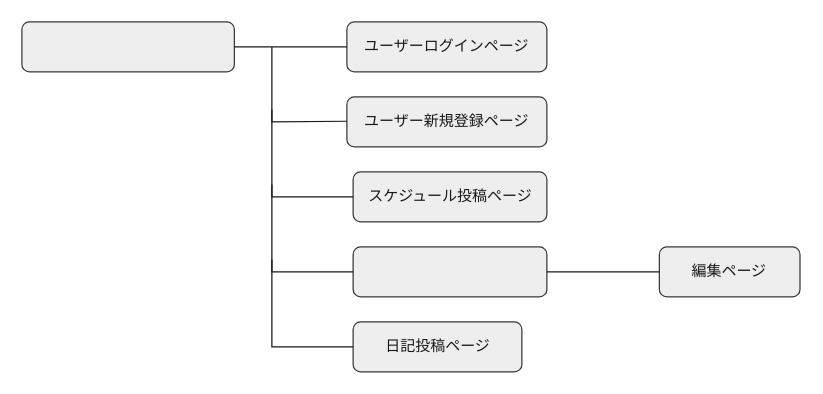
This 823x394 diagram has some shape labels left out. The shapes that lost their labels are listed below. From the top down, each one's centre as x and y in pixels, then its label:
At point (127, 46): "スケジュール一覧ページ".
At point (449, 271): "スケジュール詳細ページ".
